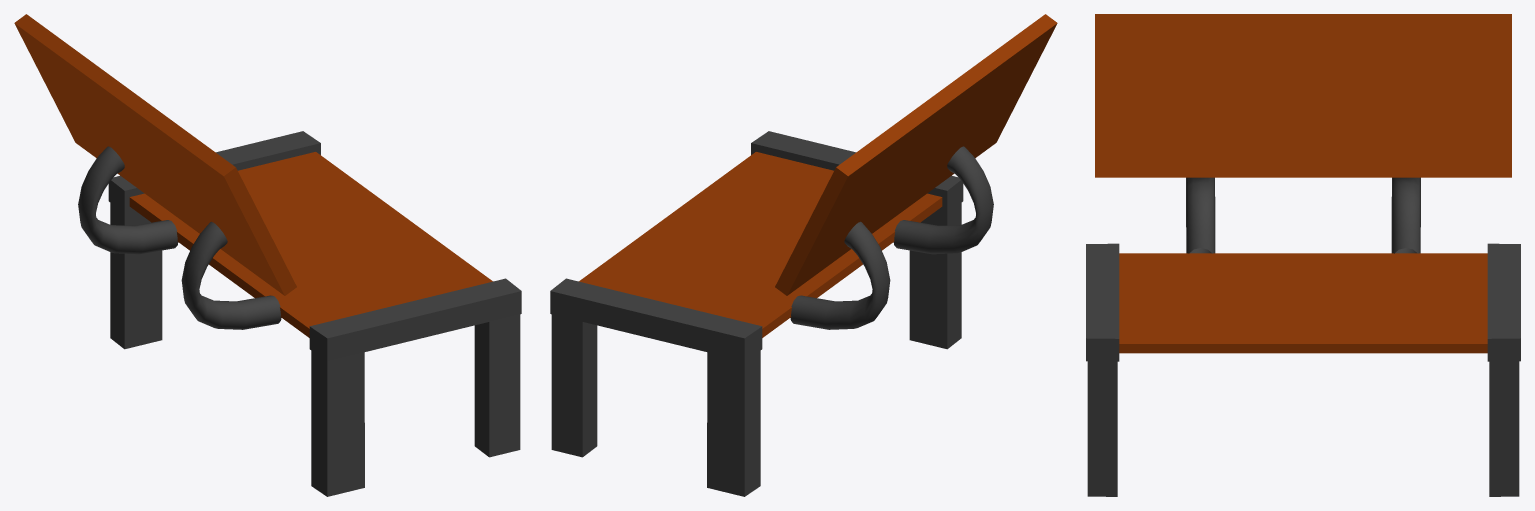
Rendered from Silla.fbx.
The picture shows the model from 3 angles, left to right: view 1: azimuth 30°, elevation 25°; view 2: azimuth 150°, elevation 25°; view 3: azimuth 270°, elevation 25°; orthographic projection.
Visible parts, largest first — view 1: Cube.008, Cube.007, BézierCurve.001; view 2: Cube.008, Cube.007, BézierCurve.001; view 3: Cube.007, Cube.008, BézierCurve.001.
Boxes of the visible parts, x1,y1,x2,y2 form: Cube.008: (108,131,521,496); Cube.007: (14,14,296,295); BézierCurve.001: (78,146,281,329); Cube.008: (550,131,963,496); Cube.007: (775,14,1057,295); BézierCurve.001: (790,146,993,329); Cube.007: (1095,14,1511,177); Cube.008: (1086,243,1520,496); BézierCurve.001: (1186,177,1420,253).
Bounding box in the file's own units: 162 × 183 × 209.
